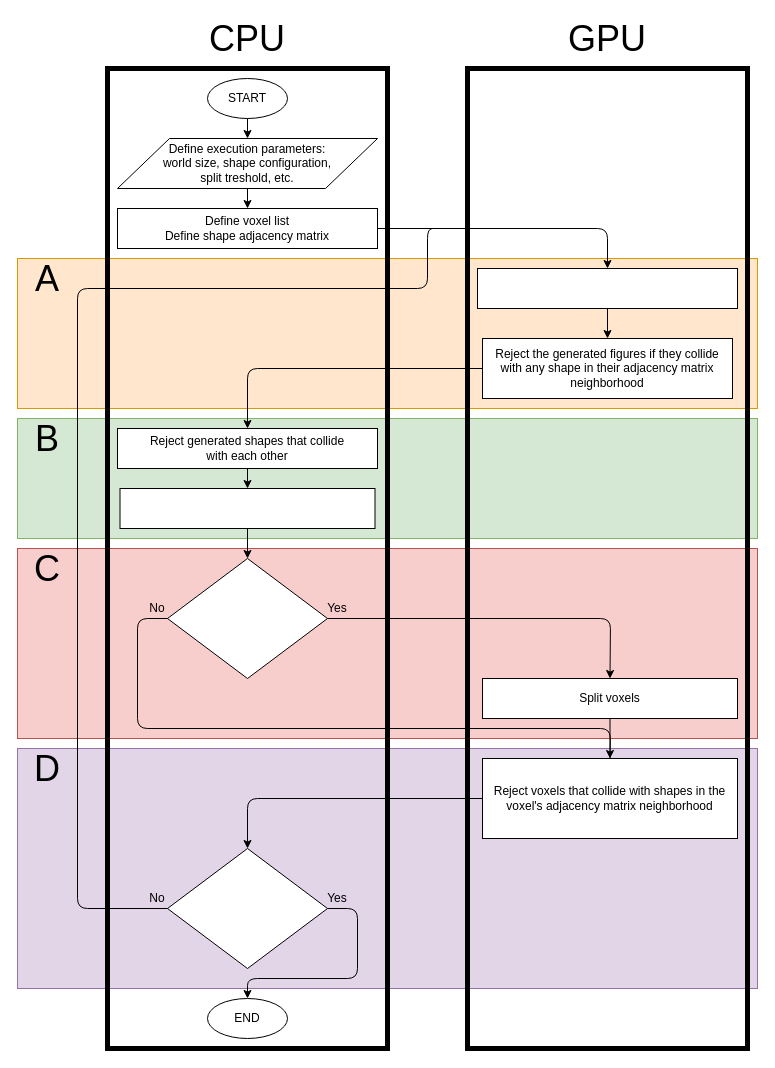
The diagram is 775 pixels wide and 1068 high, and some of its shapes have lost their labels. Each missing label, with the box of its shape:
Insert generated shapes into the adjacency matrix: (119, 488, 375, 528)
Number of succesfully generated shapes is lower than the treshold: (166, 558, 328, 678)
Randomly pick voxels from the list Generate random shapes at picked voxels: (476, 268, 738, 308)
There are no remaining voxels: (166, 848, 328, 968)
